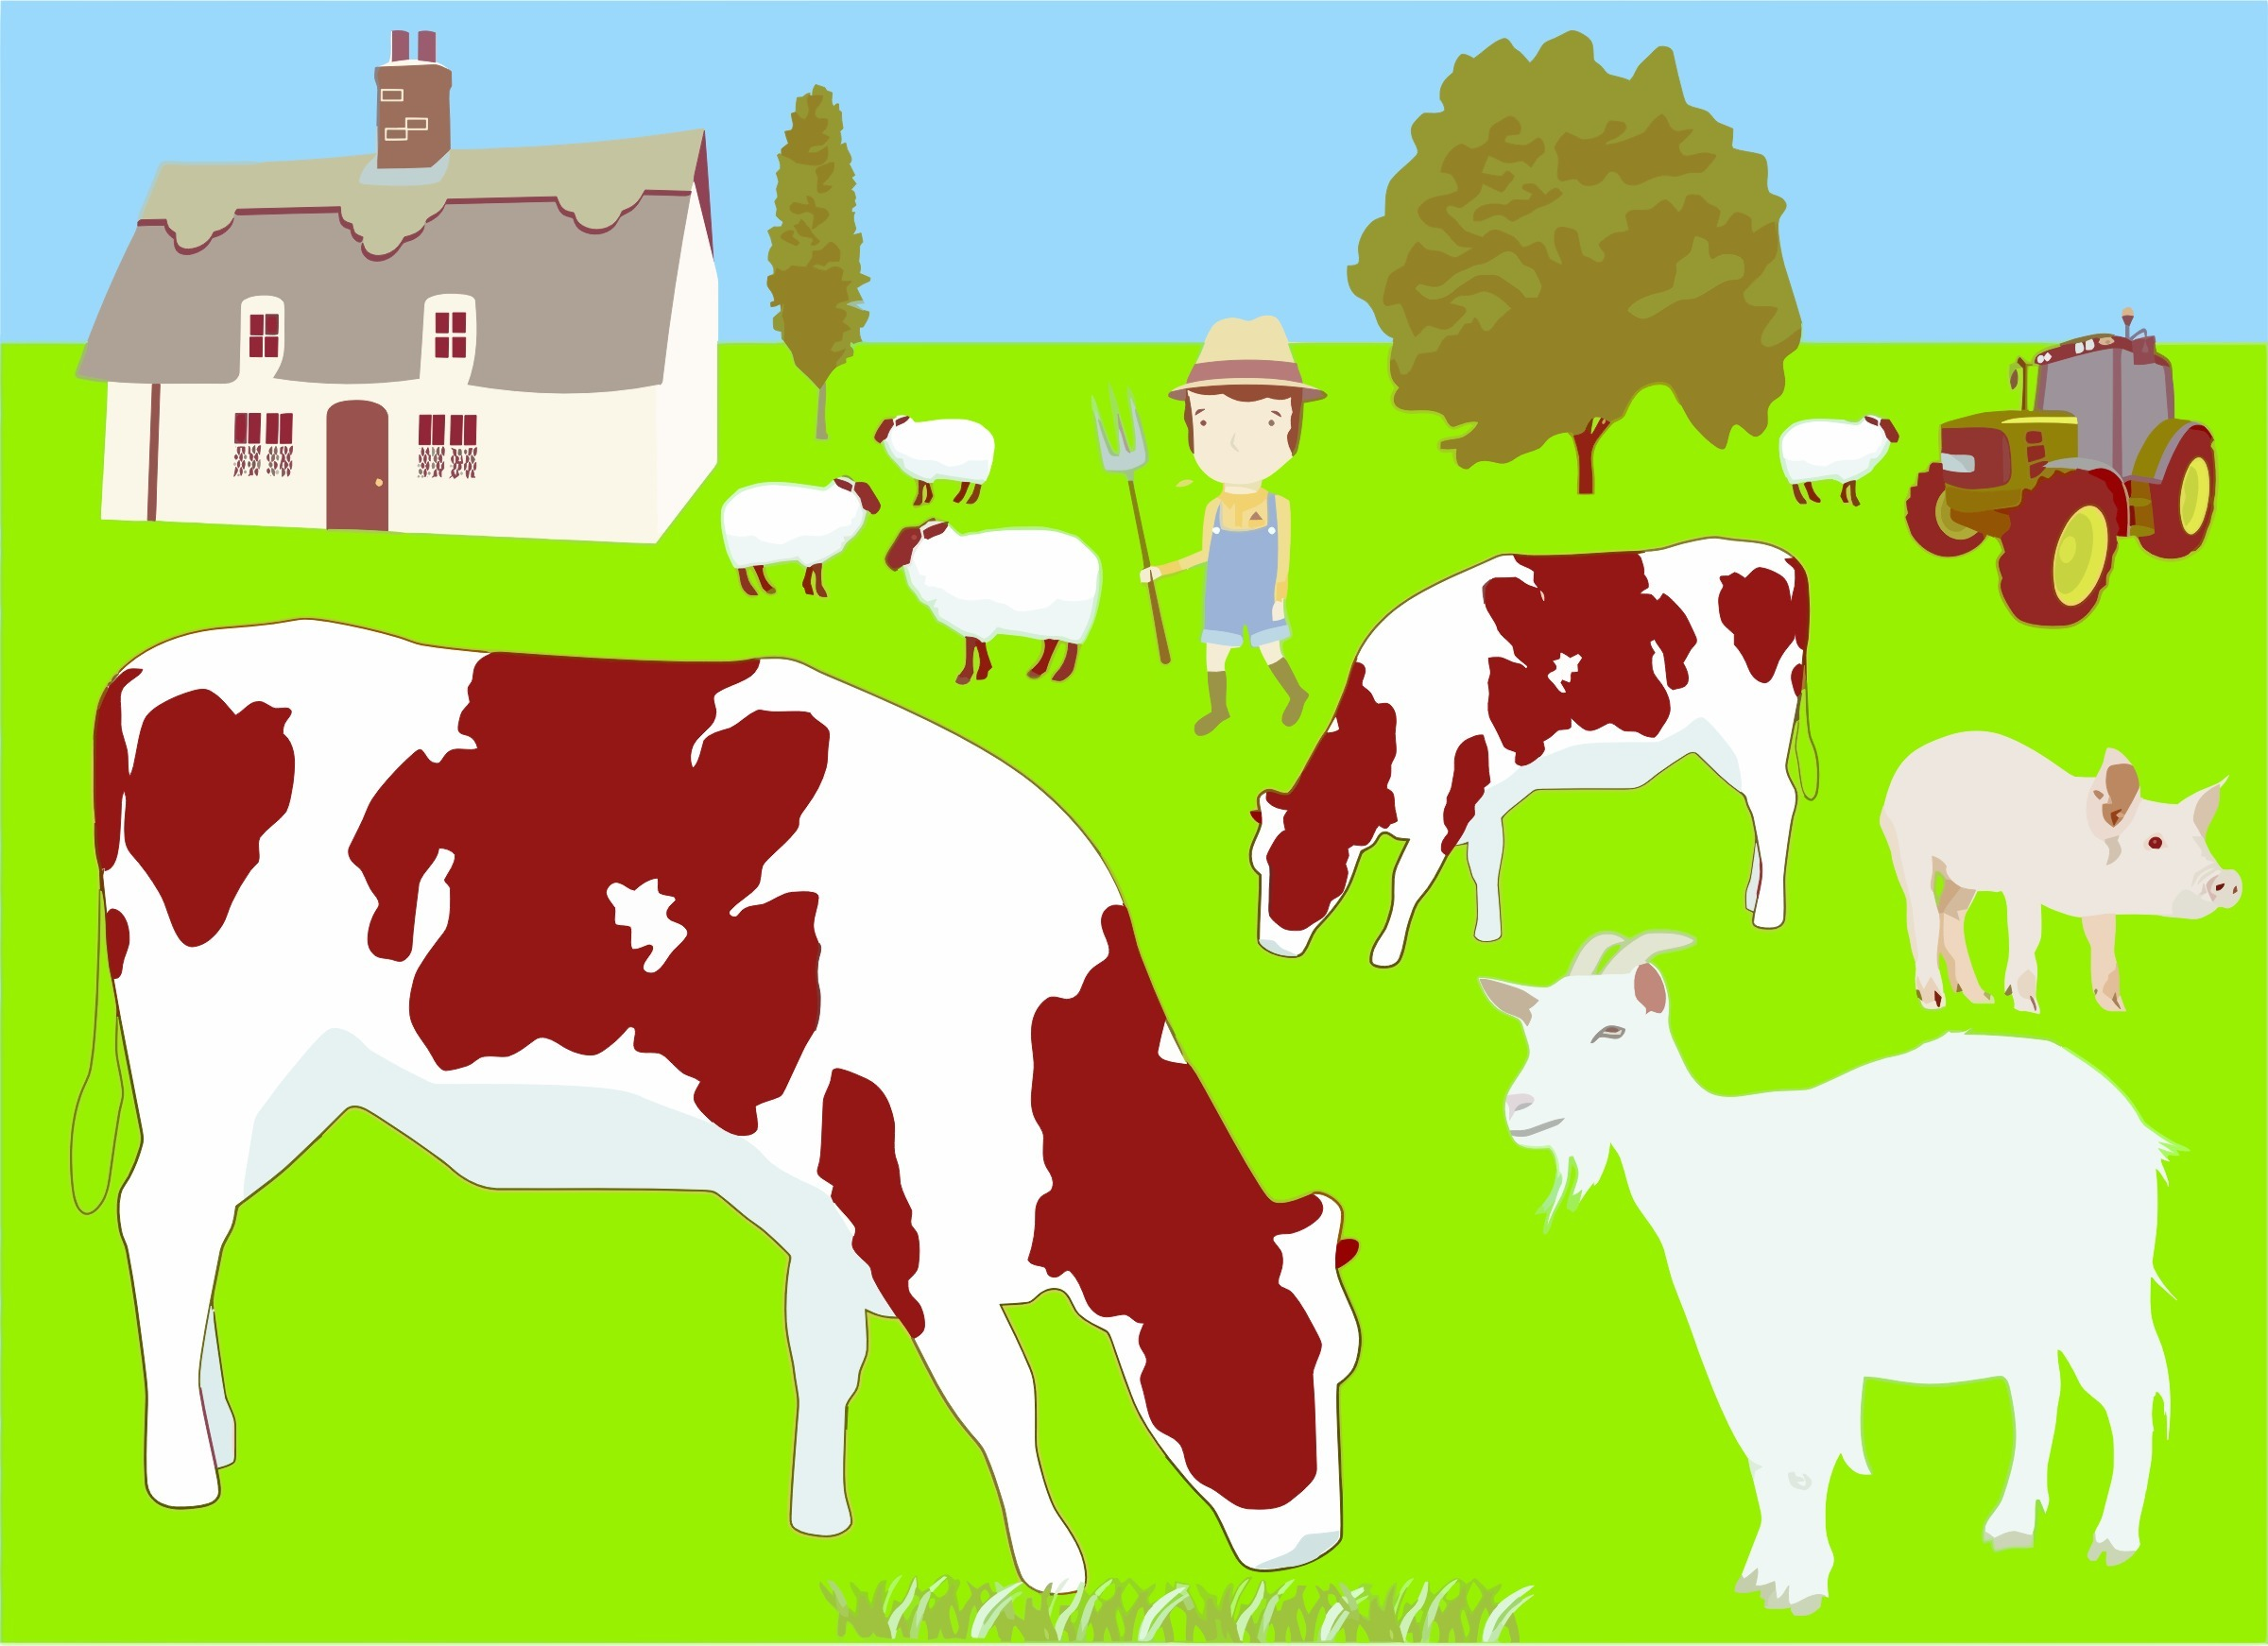car: (1883, 309, 2213, 634)
cow: (86, 641, 1369, 1595), (1200, 512, 1820, 978)
person: (1089, 297, 1321, 730)
sheep: (885, 523, 1110, 696), (711, 472, 881, 594), (858, 403, 1002, 503), (1770, 408, 1903, 512)
